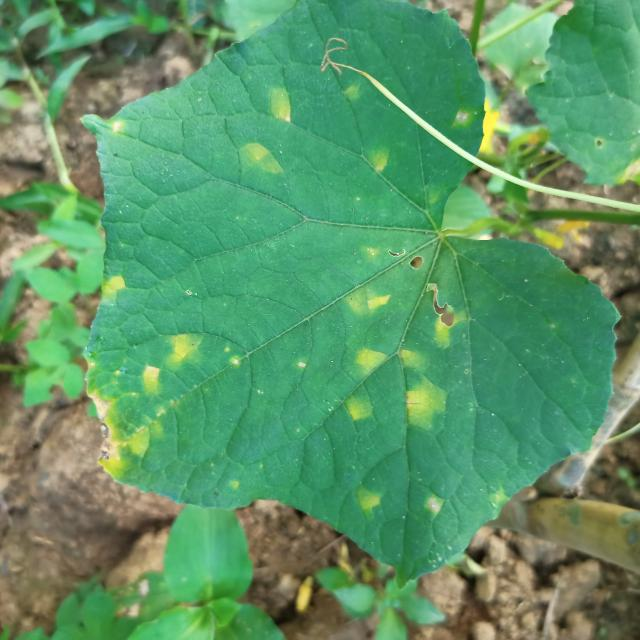disease_cucumber: (334, 237, 460, 444), (85, 330, 209, 482), (239, 78, 296, 180), (352, 135, 403, 182), (344, 482, 384, 522), (98, 271, 128, 312)
